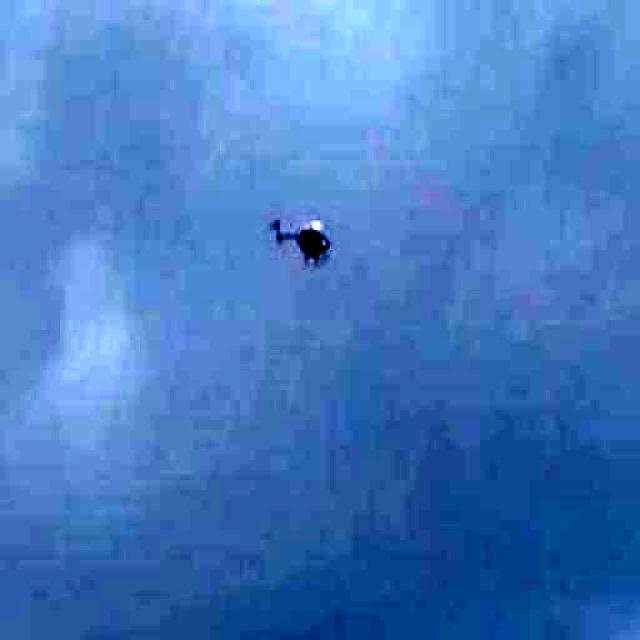drone: (220, 165, 372, 301)
